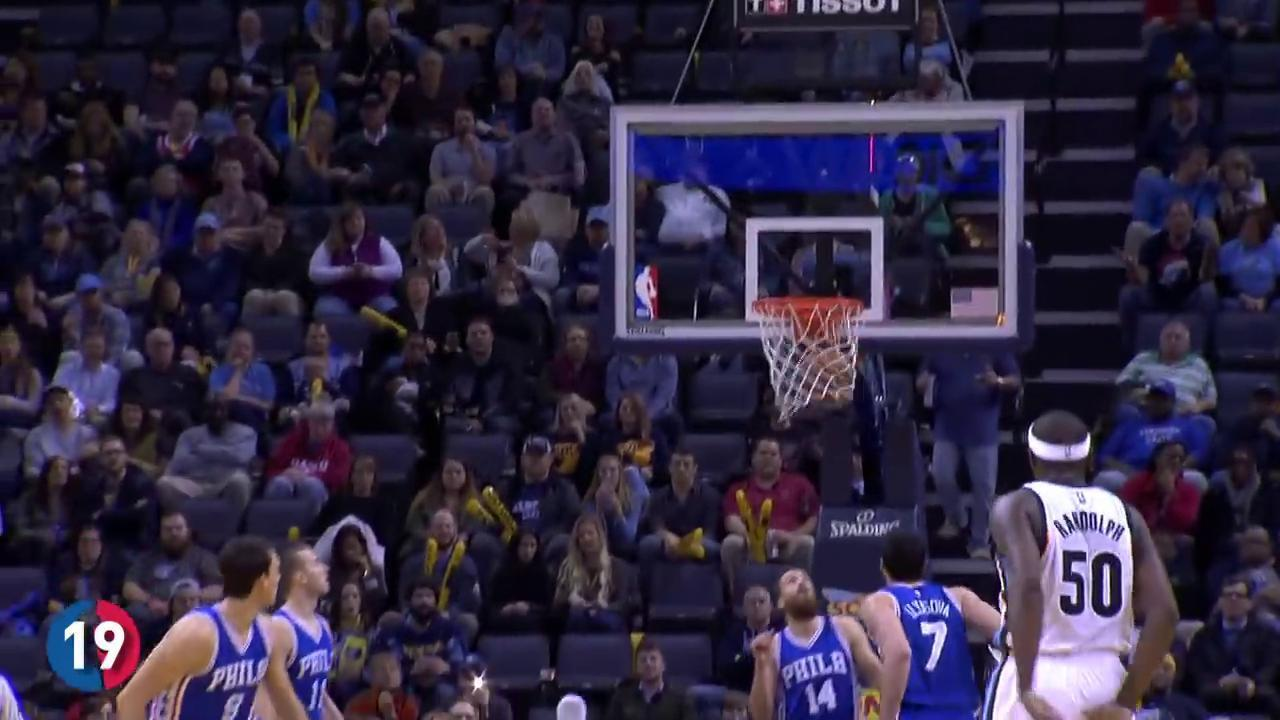ball: (798, 348, 855, 413)
human: (979, 404, 1183, 720), (108, 531, 309, 720), (856, 533, 1006, 720), (741, 562, 883, 720), (266, 531, 344, 720)
rim: (750, 293, 869, 431)
